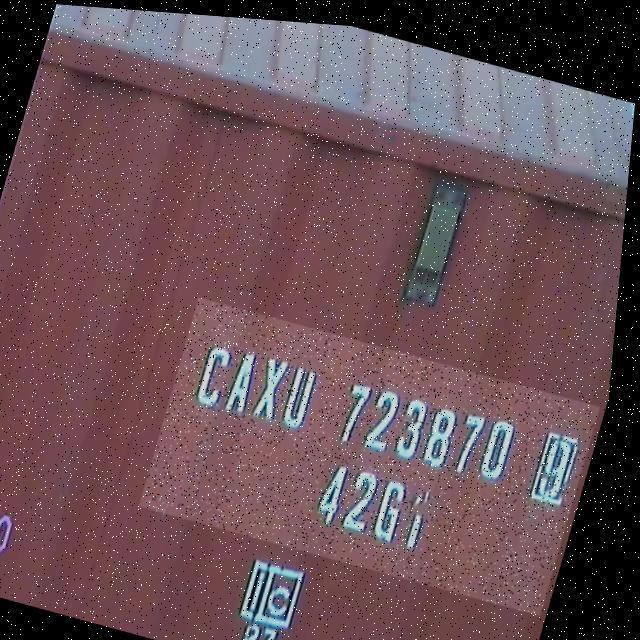container_number_h: (142, 292, 612, 609)
